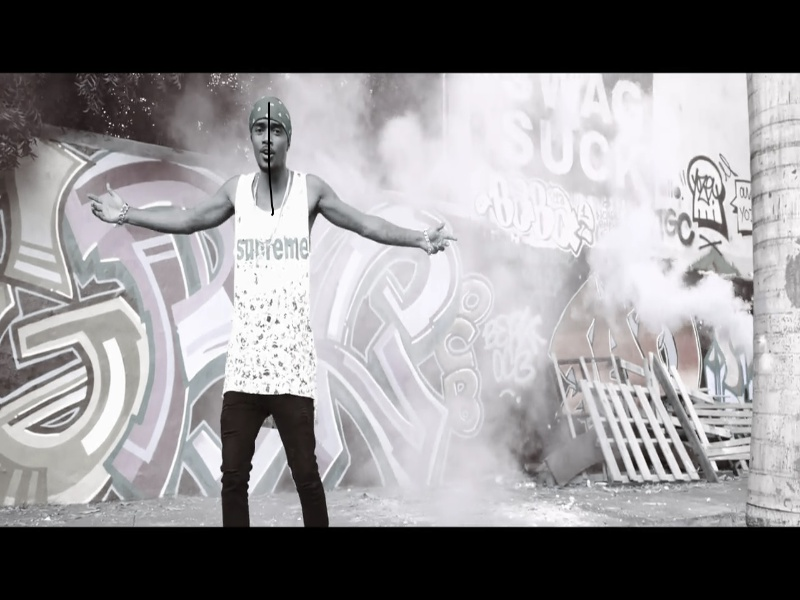TsisyArotava: (240, 94, 302, 180)
